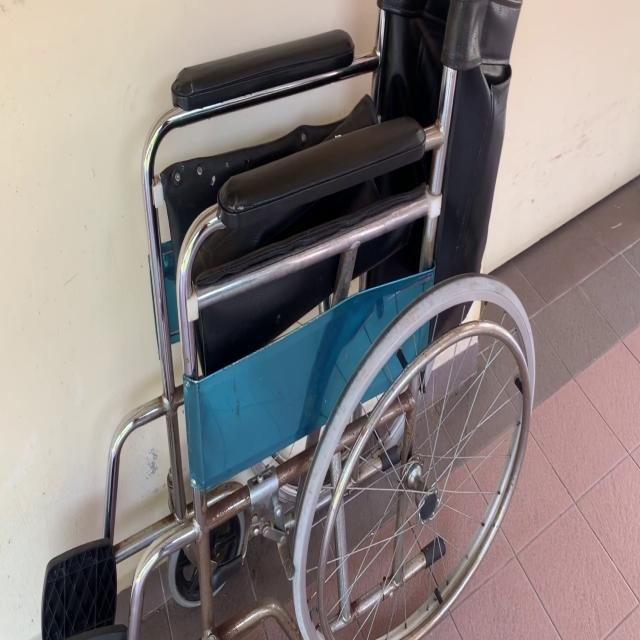wheelchair: (33, 0, 551, 640)
